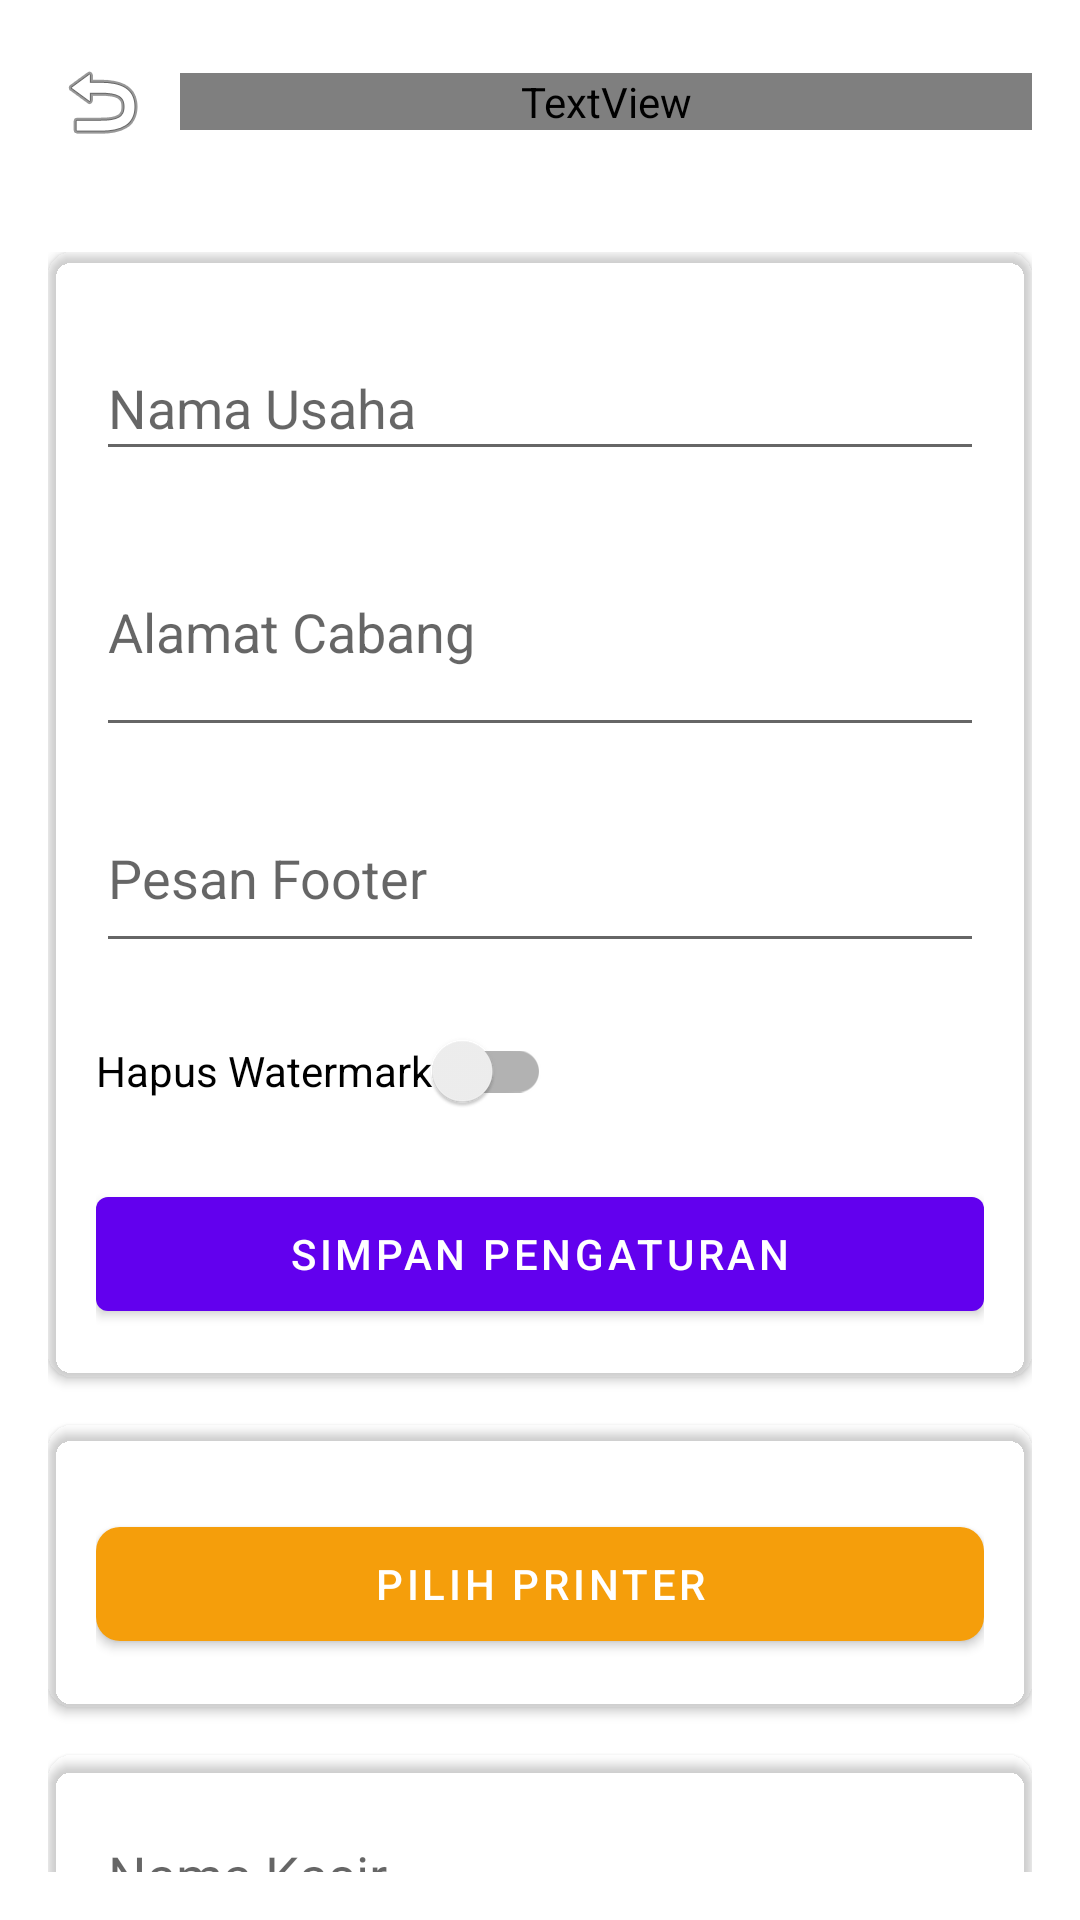

Screen size 1080x1920. Icon name, then its center in pixels as (x,y):
revert: (103,102)
